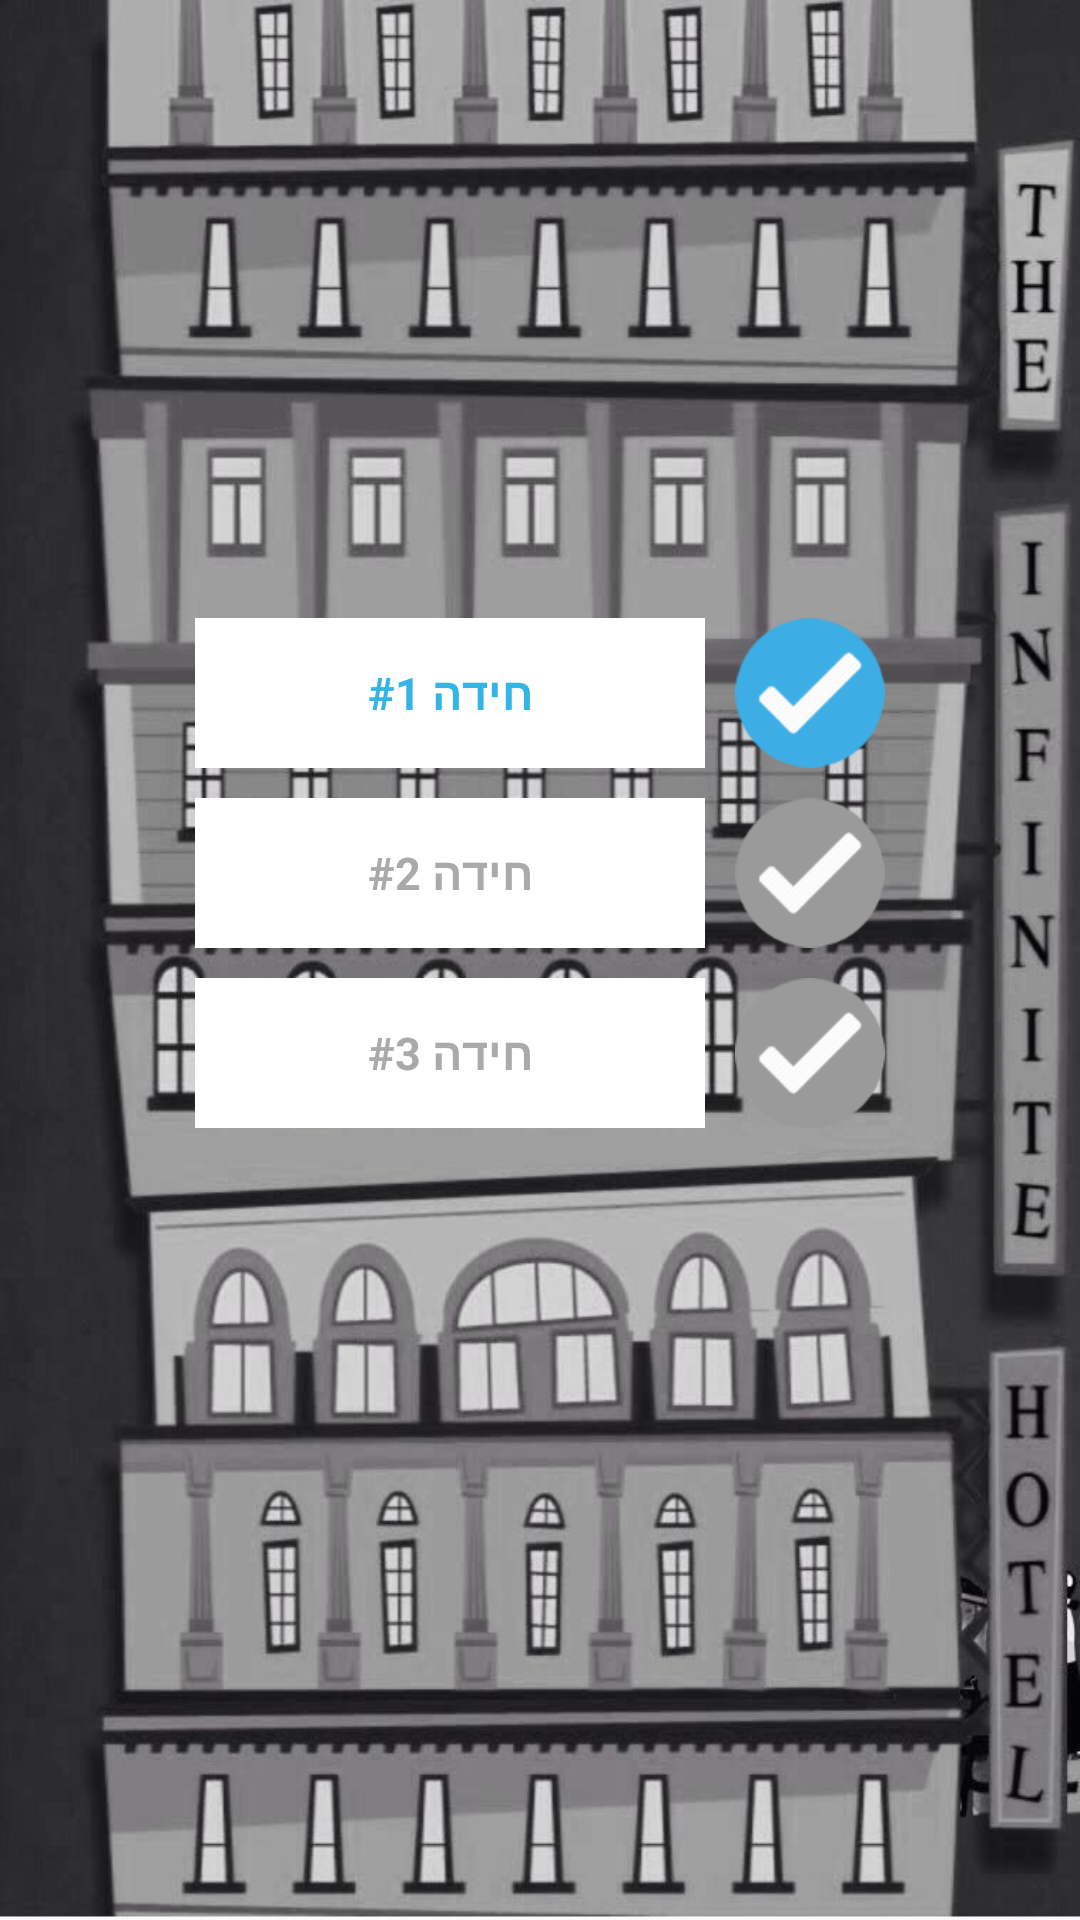

Icon click points for this 1080px×1920px phone screenshot, format point (x, y):
tickcyan: point (810, 693)
tickgray: point (810, 873), point (810, 1053)
